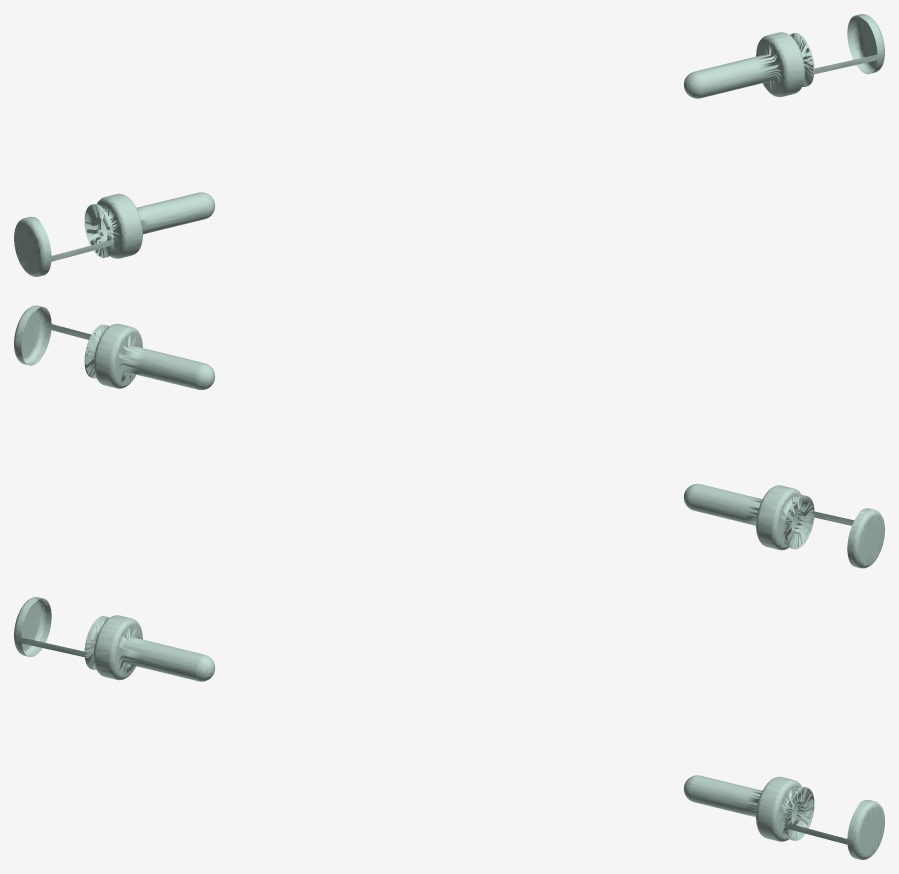
File: lowerparts_3.obj
3 views of the same model, one above another, from view 1: azimuth 30°, elevation 25°; view 2: azimuth 150°, elevation 25°; view 3: azimuth 330°, elevation 25° (orthographic).
Bounding box in the file's own units: 178 × 11.55 × 11.55.
